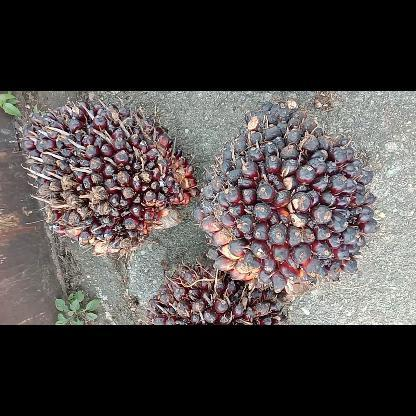TBS mentah: (195, 101, 377, 295), (17, 98, 197, 254), (145, 264, 287, 324)
